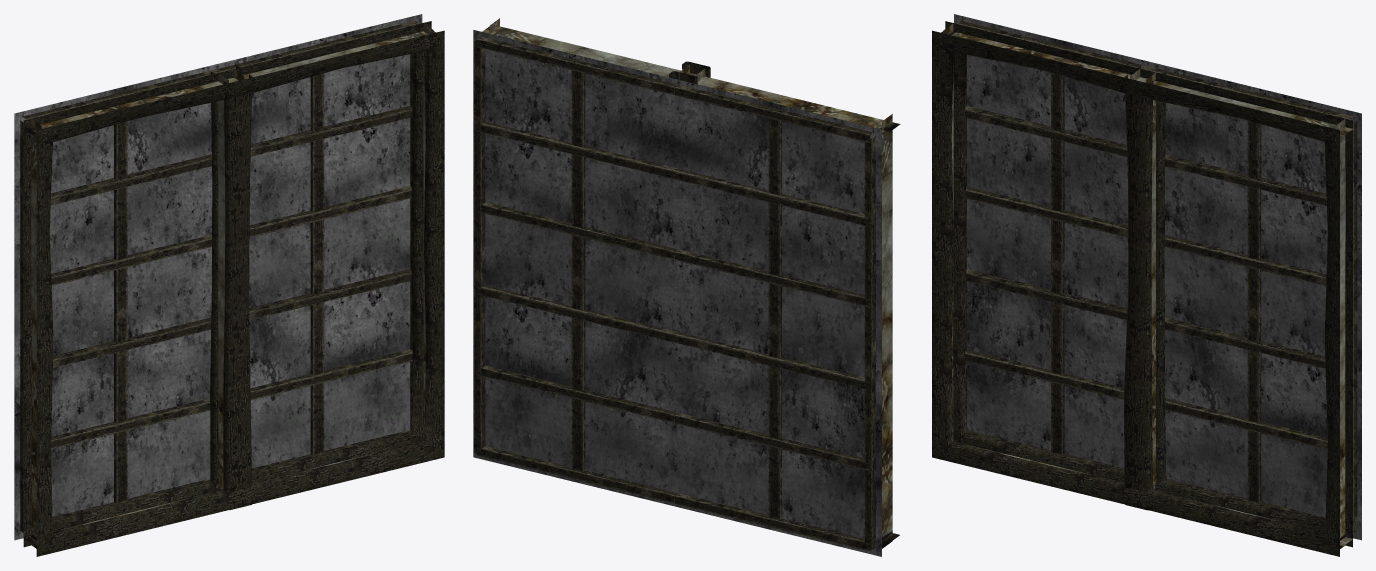
Rendered from cellar_ceiling_04.DAE.
The picture shows the model from 3 angles, left to right: view 1: azimuth 30°, elevation 25°; view 2: azimuth 150°, elevation 25°; view 3: azimuth 330°, elevation 25°; orthographic projection.
Parts seen in each view (by area): view 1: Plane001, Box028, Object011, Box033; view 2: Plane001, Object011, Box033; view 3: Plane001, Box028, Object011, Box033.
Part boxes in pixels (box(x1,y1,x2,y2)): Plane001: box(14, 14, 422, 540); Box028: box(23, 21, 444, 556); Object011: box(20, 21, 418, 532); Box033: box(24, 23, 435, 548); Plane001: box(473, 30, 881, 556); Object011: box(474, 36, 875, 551); Box033: box(482, 18, 900, 548); Plane001: box(954, 14, 1361, 540); Box028: box(932, 21, 1352, 556); Object011: box(958, 21, 1357, 533); Box033: box(941, 23, 1353, 548).
Bounding box in the file's own units: 4 × 4.01 × 0.4465.
